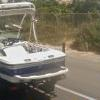Boat: (0, 2, 77, 91)
